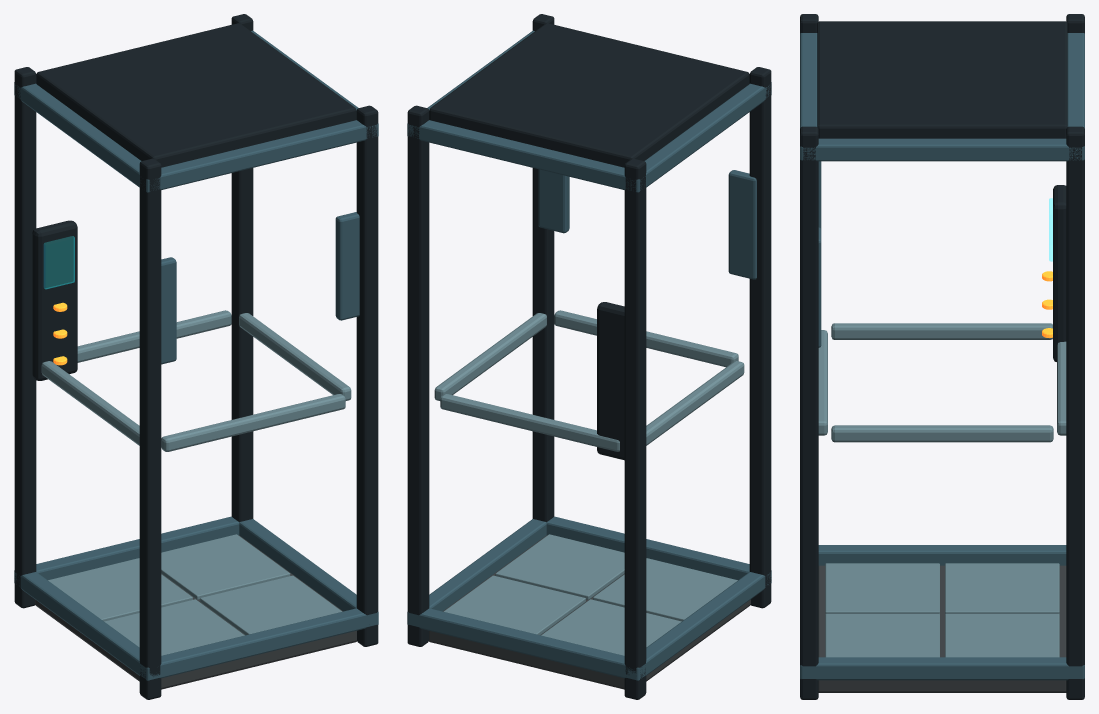
File: 01_industrial_1x1.glb
3 views of the same model, side by side, from view 1: azimuth 30°, elevation 25°; view 2: azimuth 150°, elevation 25°; view 3: azimuth 270°, elevation 25° (orthographic). The views are drawn at different scales.
Visible parts, largest first — view 1: Ceiling_Frame, Corner_Post_-1_-1, Corner_Post_1_-1, Corner_Post_-1_1, Corner_Post_1_1, Cabin_Control_Housing, Floor_Plate_1_1, Lower_Rail_North, Upper_Rail_North, Floor_Plate_1_0, Floor_Plate_0_1, Floor_Plate_0_0 (+12 smaller); view 2: Ceiling_Frame, Corner_Post_-1_1, Corner_Post_1_1, Corner_Post_-1_-1, Corner_Post_1_-1, Floor_Plate_1_0, Lower_Rail_South, Upper_Rail_South, Floor_Plate_1_1, Floor_Plate_0_0, Cabin_Control_Housing, Floor_Plate_0_1 (+11 smaller); view 3: Ceiling_Frame, Corner_Post_1_-1, Corner_Post_1_1, Lower_Rail_East, Upper_Rail_East, Floor_Plate_0_0, Floor_Plate_0_1, Floor_Base, Floor_Plate_1_0, Floor_Plate_1_1, Lower_Rail_West, Handrail_East (+7 smaller).
Boxes of the visible parts, left/top/right/bottom form: Ceiling_Frame: left=36, top=23, right=356, bottom=167; Corner_Post_-1_-1: left=139, top=158, right=161, bottom=699; Corner_Post_1_-1: left=356, top=105, right=378, bottom=646; Corner_Post_-1_1: left=14, top=67, right=36, bottom=608; Corner_Post_1_1: left=231, top=14, right=253, bottom=522; Cabin_Control_Housing: left=32, top=220, right=77, bottom=380; Floor_Plate_1_1: left=161, top=534, right=290, bottom=599; Lower_Rail_North: left=139, top=608, right=378, bottom=680; Upper_Rail_North: left=139, top=120, right=378, bottom=192; Floor_Plate_1_0: left=200, top=575, right=341, bottom=635; Floor_Plate_0_1: left=48, top=558, right=192, bottom=621; Floor_Plate_0_0: left=104, top=599, right=244, bottom=655; Ceiling_Frame: left=429, top=23, right=749, bottom=167; Corner_Post_-1_1: left=624, top=158, right=646, bottom=699; Corner_Post_1_1: left=407, top=105, right=429, bottom=646; Corner_Post_-1_-1: left=749, top=67, right=771, bottom=608; Corner_Post_1_-1: left=532, top=14, right=554, bottom=522; Floor_Plate_1_0: left=495, top=534, right=624, bottom=599; Lower_Rail_South: left=407, top=608, right=646, bottom=680; Upper_Rail_South: left=407, top=120, right=646, bottom=192; Floor_Plate_1_1: left=444, top=575, right=585, bottom=635; Floor_Plate_0_0: left=593, top=558, right=737, bottom=621; Cabin_Control_Housing: left=597, top=302, right=624, bottom=460; Floor_Plate_0_1: left=541, top=599, right=681, bottom=655; Ceiling_Frame: left=817, top=21, right=1067, bottom=138; Corner_Post_1_-1: left=800, top=126, right=818, bottom=699; Corner_Post_1_1: left=1066, top=126, right=1084, bottom=699; Lower_Rail_East: left=800, top=657, right=1084, bottom=680; Upper_Rail_East: left=800, top=138, right=1084, bottom=161; Floor_Plate_0_0: left=825, top=563, right=939, bottom=614; Floor_Plate_0_1: left=945, top=563, right=1059, bottom=614; Floor_Base: left=818, top=565, right=1066, bottom=692; Floor_Plate_1_0: left=825, top=614, right=939, bottom=657; Floor_Plate_1_1: left=945, top=614, right=1059, bottom=657; Lower_Rail_West: left=818, top=545, right=1066, bottom=565; Handrail_East: left=831, top=425, right=1053, bottom=442.
Bounding box in the file's own units: 1 × 2.2 × 1.
